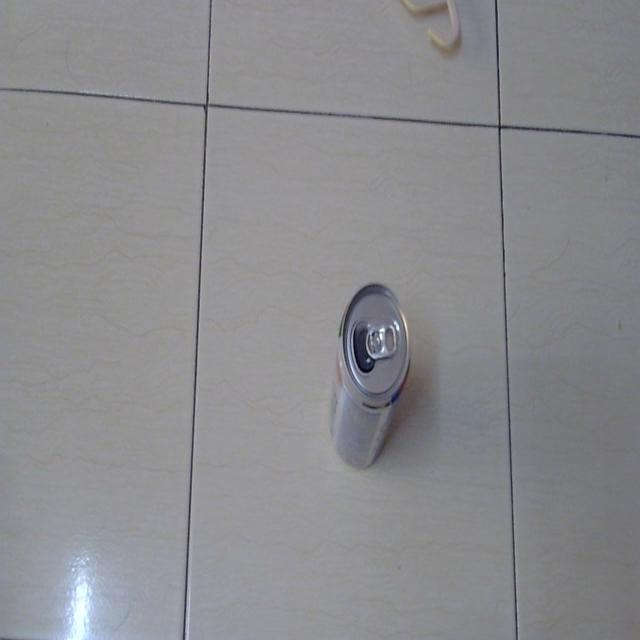metal_standrotation: (326, 275, 416, 487)
